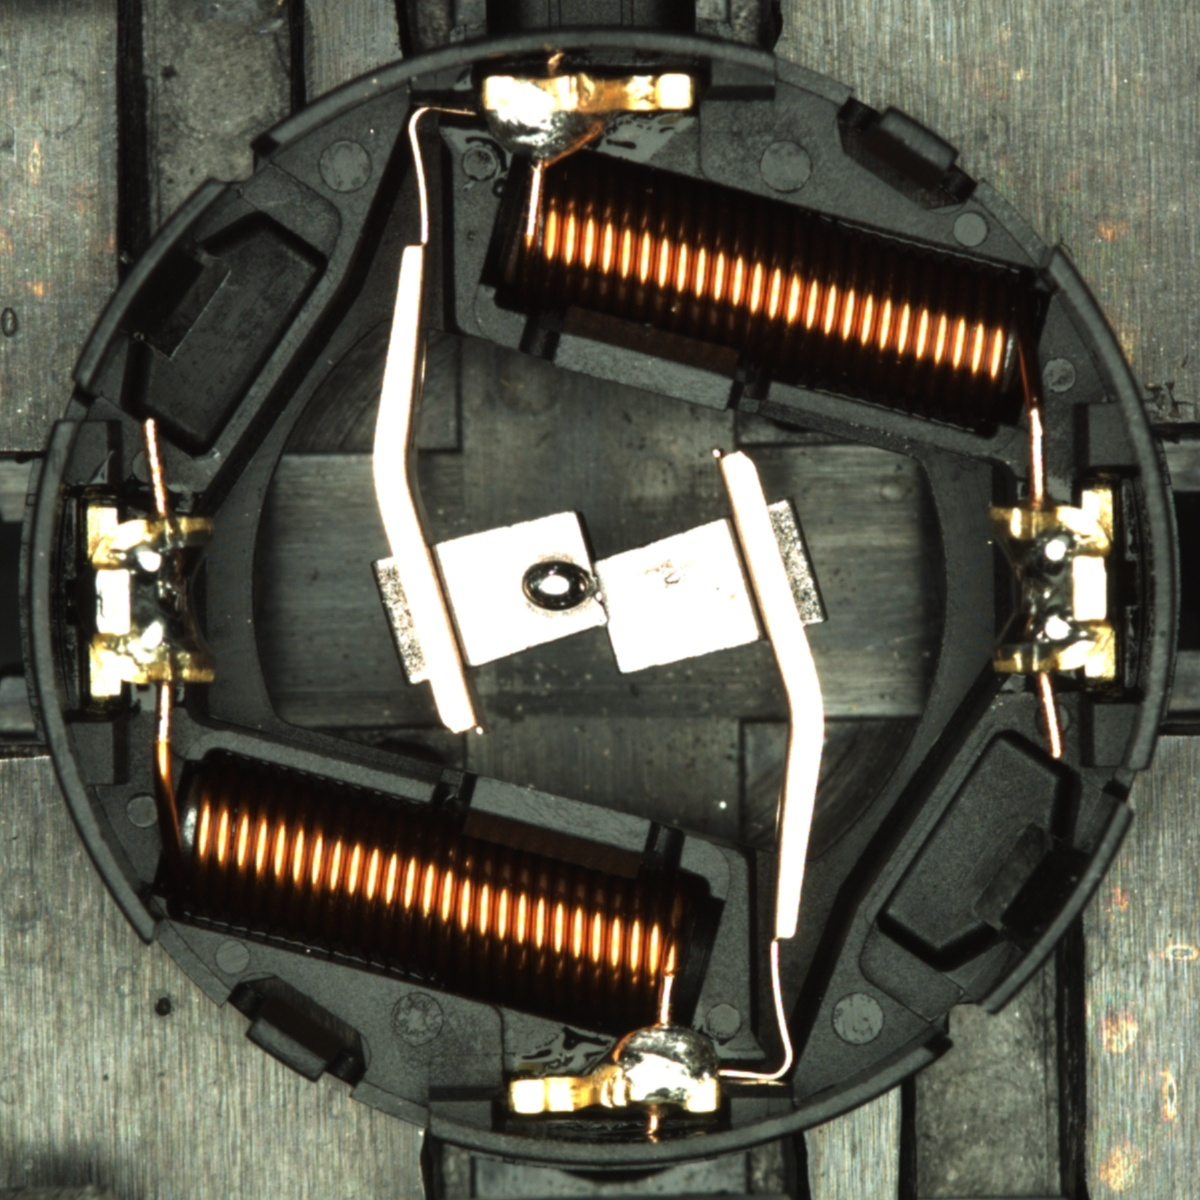1: (258, 55, 487, 279), (716, 953, 945, 1177)
2: (716, 55, 945, 279), (258, 953, 487, 1177)
3: (29, 279, 258, 503), (945, 729, 1175, 953)
4: (258, 279, 487, 503), (716, 729, 945, 953)
5: (487, 167, 716, 391), (487, 841, 716, 1065)
6: (716, 279, 945, 503), (258, 729, 487, 953)
7: (945, 279, 1175, 503), (29, 729, 258, 953)
chau_dien: (79, 500, 219, 700), (982, 487, 1122, 686)
di_vat: (523, 558, 591, 609)
hat_chi: (524, 562, 582, 612)
tay_choi: (480, 69, 698, 171), (508, 1020, 722, 1118)
thanh_de: (954, 786, 1141, 1030), (59, 164, 244, 404)
